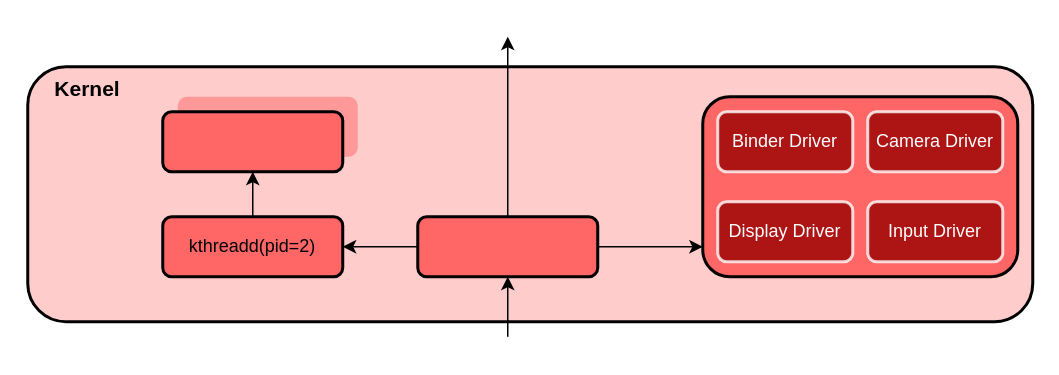
Some shapes in this 1059 by 375 pixel diagram are drawn without their labels. The shapes that lost their labels are listed below. From the top down, each one's centre as x and y in pixels, then its label:
point 252,141: kernel daemons
point 507,246: SWAPPER(pid=0)
